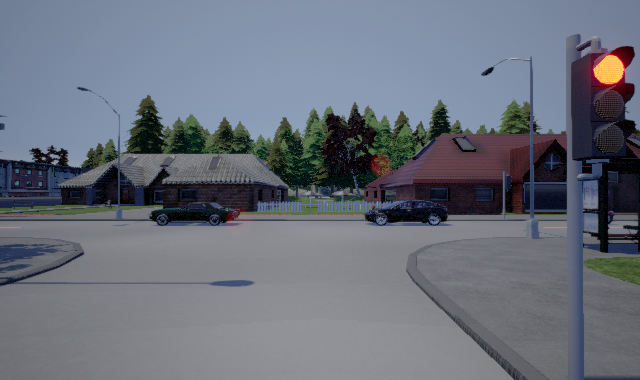traffic_light: (569, 45, 636, 161)
vehicle: (149, 202, 240, 226), (364, 200, 448, 226)
